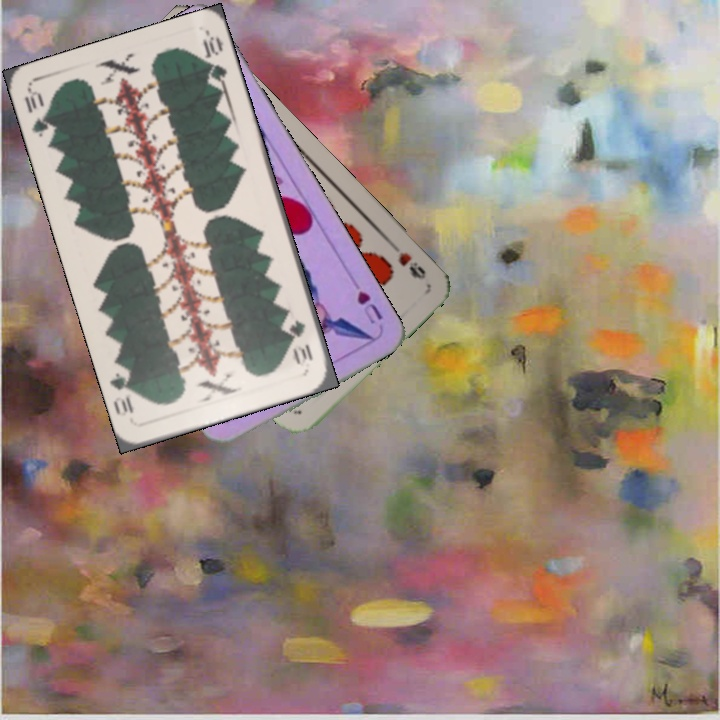G10: (20, 86, 58, 144), (285, 315, 316, 369)
H9: (384, 237, 429, 283)
HU: (352, 287, 385, 327)
